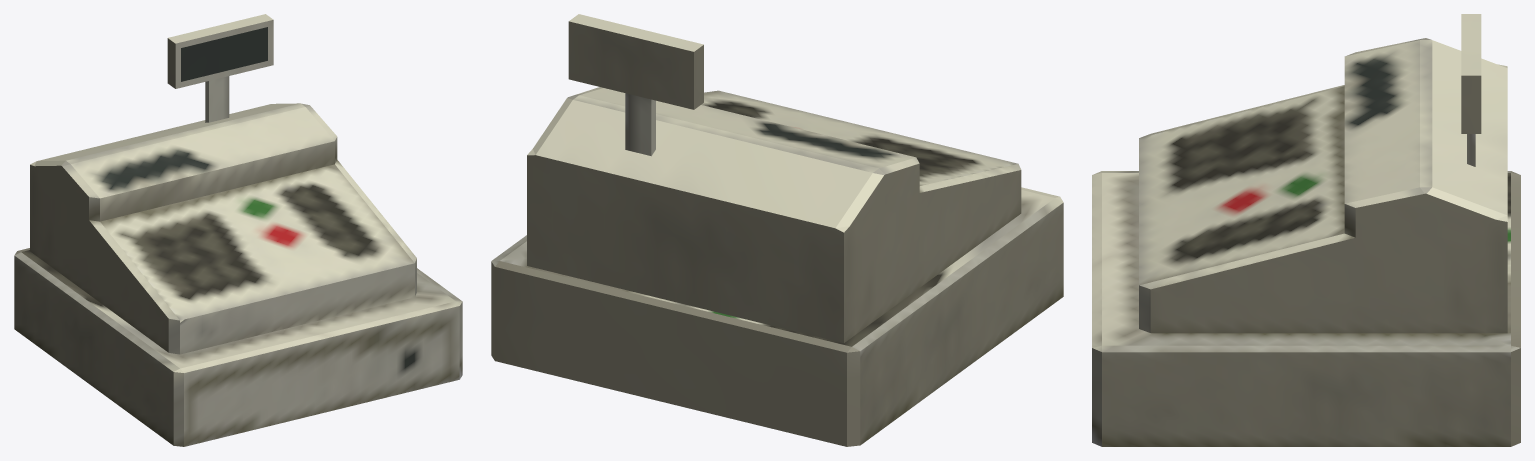
The model's file is W_Register.fbx.
3 renders of one model, left to right at view 1: azimuth 30°, elevation 25°; view 2: azimuth 150°, elevation 25°; view 3: azimuth 270°, elevation 25°, orthographic. The views are drawn at different scales.
Parts seen in each view (by area): view 1: Cube; view 2: Cube; view 3: Cube.
Part boxes in pixels (x1,y1,x2,y2): Cube: (14,14,462,446); Cube: (491,14,1063,446); Cube: (1092,14,1520,446).
Size of the model in its own units: 0.7168 by 0.6281 by 0.7168.
